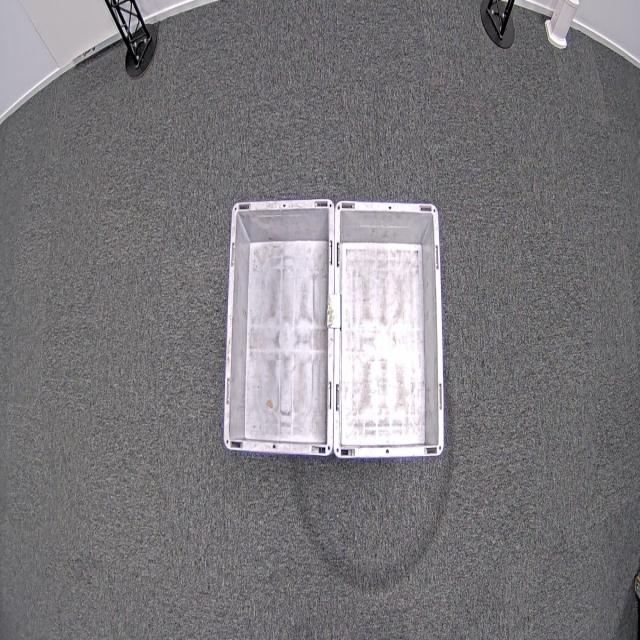Roll8G: (222, 198, 445, 460)
